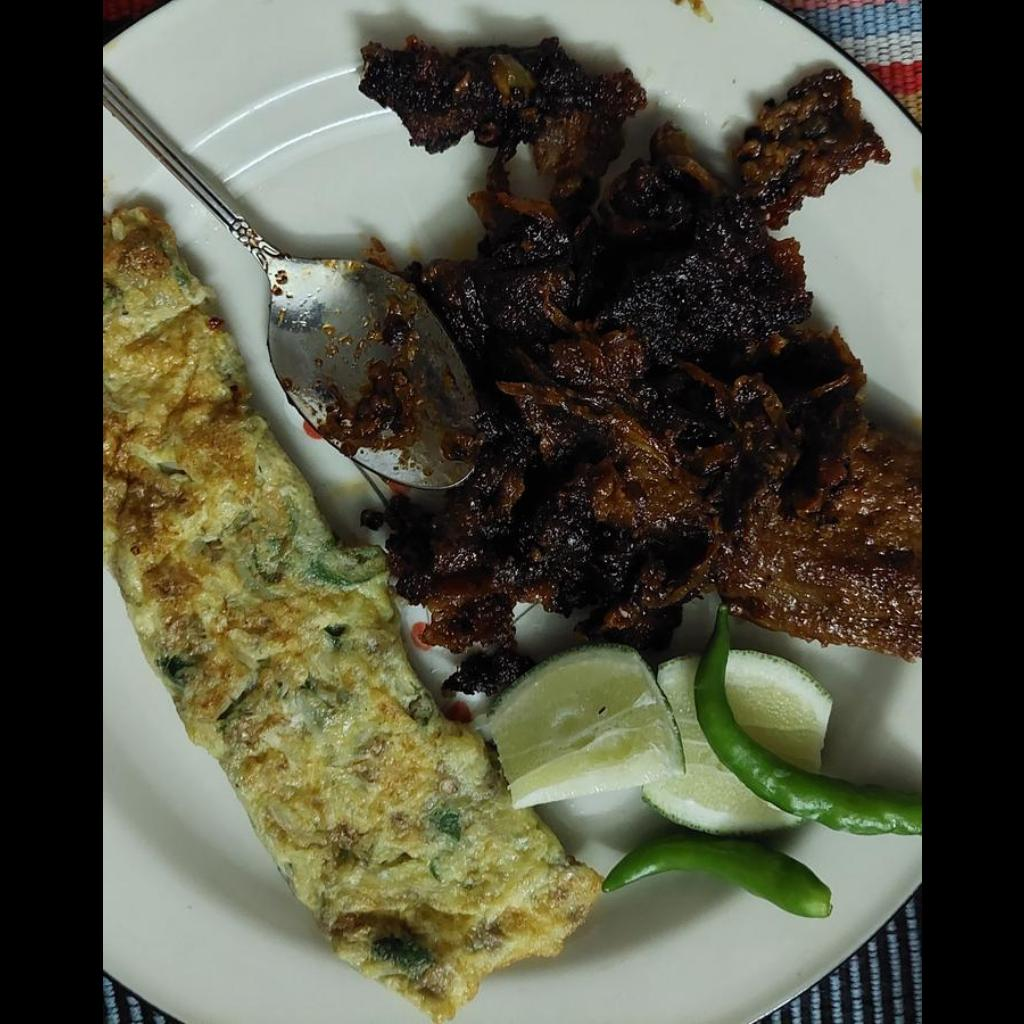achar: (360, 40, 920, 697)
egg-poached: (107, 198, 593, 1022)
salad: (493, 649, 920, 921)
